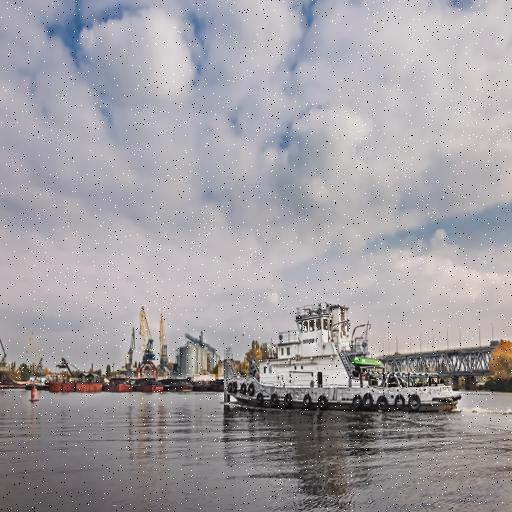tugboat: (222, 301, 465, 422)
